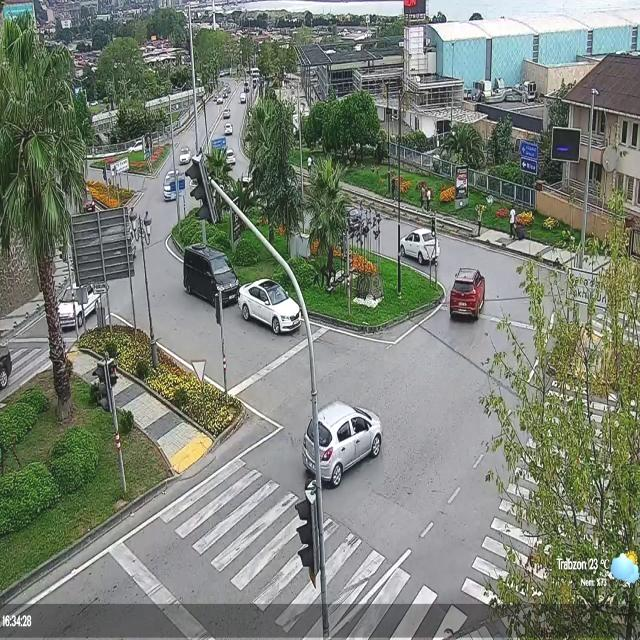Car: (303, 400, 382, 490), (236, 277, 302, 334), (54, 282, 100, 329), (448, 267, 485, 321), (398, 229, 439, 264), (0, 342, 15, 393), (343, 205, 361, 234), (76, 190, 96, 213), (178, 146, 192, 166), (226, 150, 238, 167), (128, 140, 142, 153), (224, 122, 232, 136), (222, 108, 232, 118), (217, 94, 222, 104)
Van: (183, 240, 238, 308)
